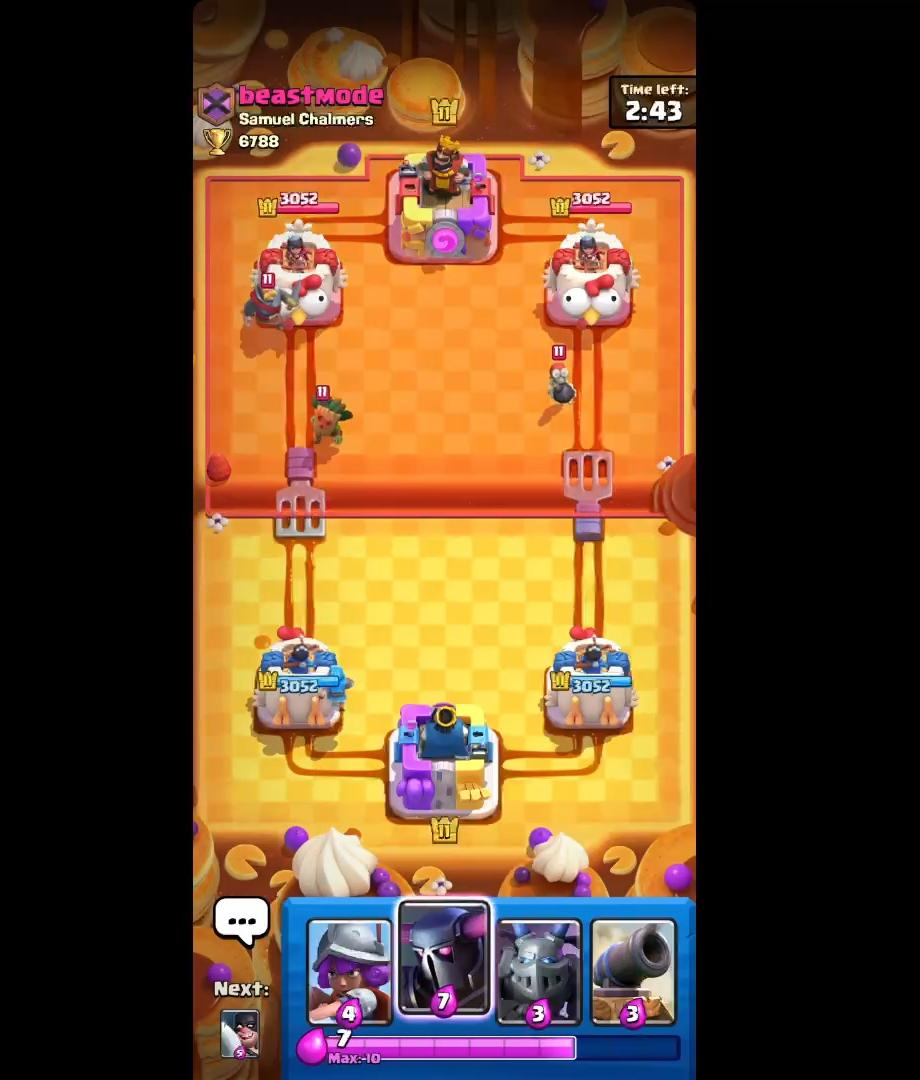Bomber: (543, 341, 582, 411)
Dart Goblin: (307, 378, 356, 460)
Knight: (238, 268, 304, 344)
